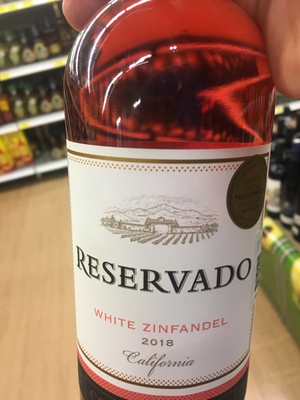reservado white zinfandel: (59, 7, 276, 400)
